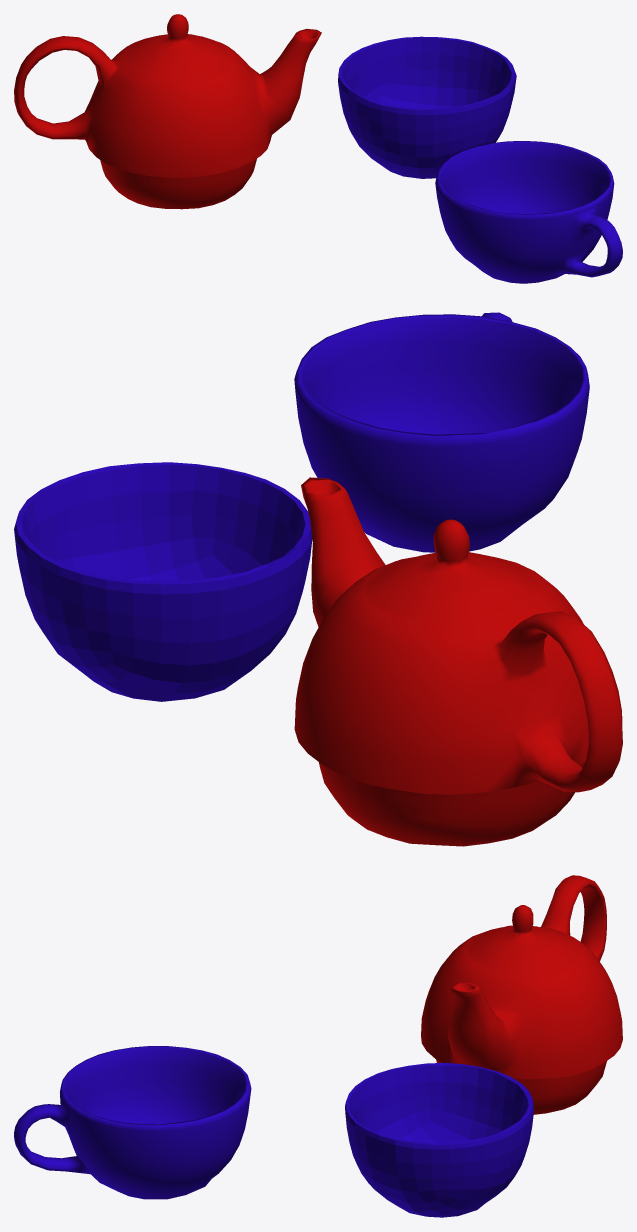
The model's file is tea pot and cup.fbx.
3 views of the same model, one above another, from view 1: azimuth 30°, elevation 25°; view 2: azimuth 150°, elevation 25°; view 3: azimuth 270°, elevation 25° (orthographic). The views are drawn at different scales.
Visible parts, largest first — view 1: Teapot_LP1, Teacup_LP1, Teacup_LP2; view 2: Teapot_LP1, Teacup_LP2, Teacup_LP1; view 3: Teapot_LP1, Teacup_LP1, Teacup_LP2.
Boxes of the visible parts, box(x1,y1,x2,y2) form: Teapot_LP1: box(14, 14, 321, 209); Teacup_LP1: box(435, 141, 622, 283); Teacup_LP2: box(338, 36, 516, 178); Teapot_LP1: box(294, 477, 622, 846); Teacup_LP2: box(14, 462, 312, 701); Teacup_LP1: box(294, 312, 589, 552); Teapot_LP1: box(421, 875, 622, 1114); Teacup_LP1: box(14, 1046, 251, 1199); Teacup_LP2: box(345, 1063, 533, 1217).
Bounding box in the file's own units: 57.8 × 22.15 × 67.51.
